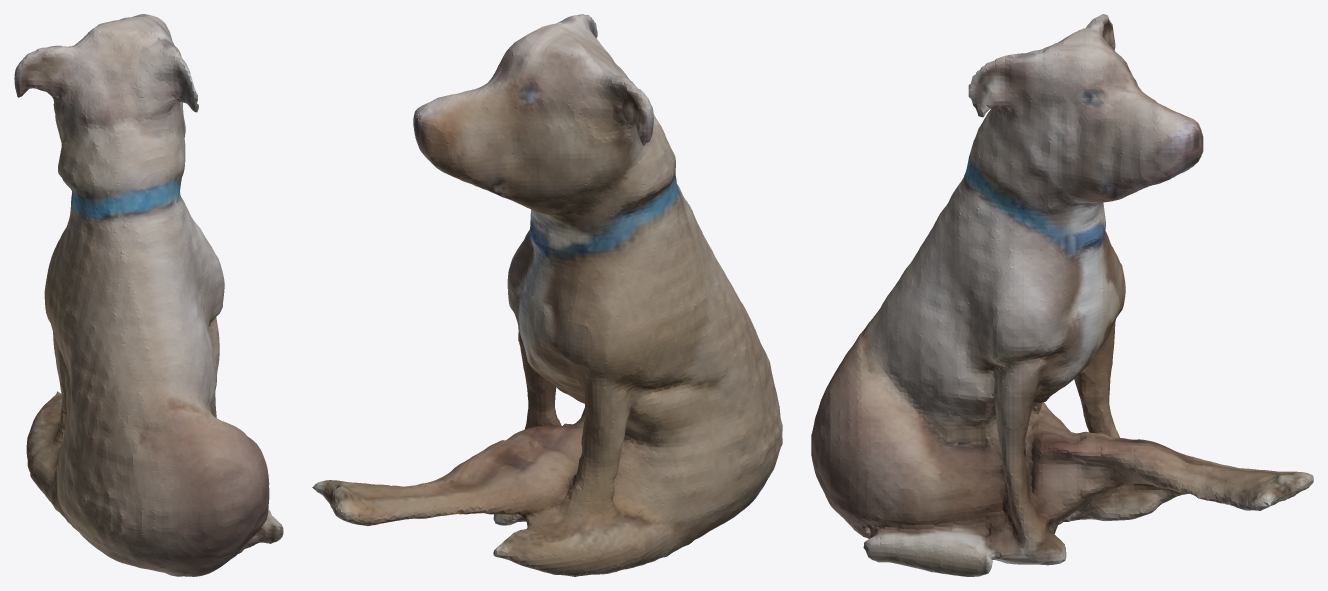
File: asset.glb
The picture shows the model from 3 angles, left to right: view 1: azimuth 30°, elevation 25°; view 2: azimuth 150°, elevation 25°; view 3: azimuth 270°, elevation 25°; orthographic projection. The views are drawn at different scales.
Parts seen in each view (by area): view 1: world; view 2: world; view 3: world.
Part boxes in pixels (box(x1,y1,x2,y2)): world: box(14, 14, 283, 576); world: box(312, 14, 782, 576); world: box(811, 14, 1313, 576).
Size of the model in its own units: 1.05 by 1.91 by 1.73.
